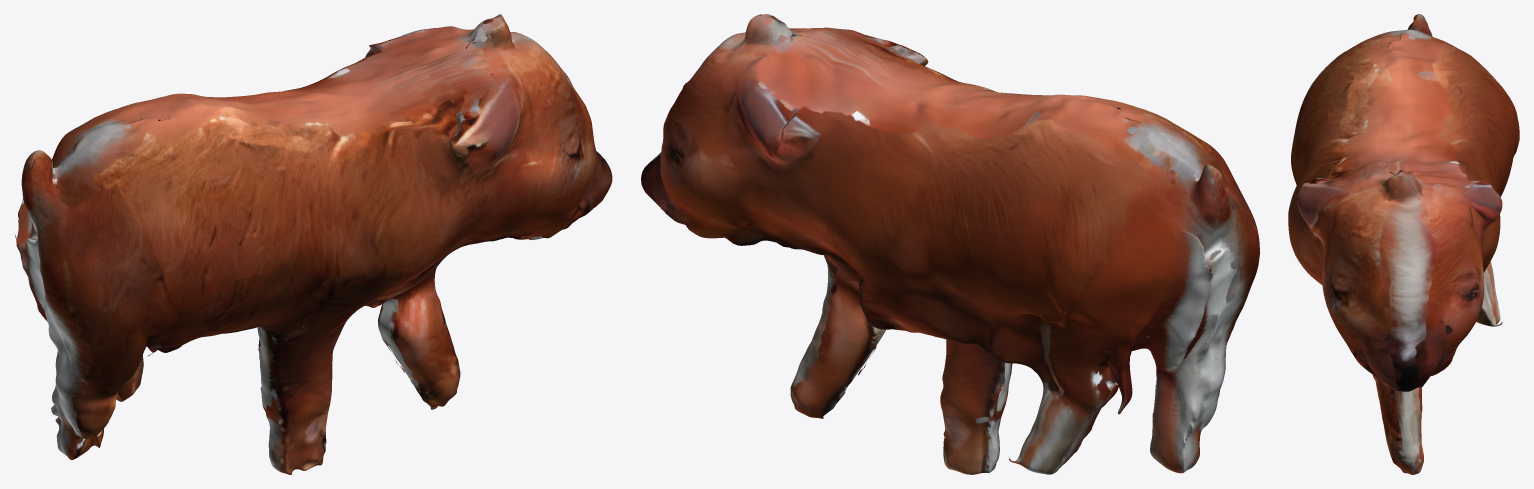
File: bebe.glb
3 renders of one model, left to right at view 1: azimuth 30°, elevation 25°; view 2: azimuth 150°, elevation 25°; view 3: azimuth 270°, elevation 25°, orthographic. The views are drawn at different scales.
Parts seen in each view (by area): view 1: mesh; view 2: mesh; view 3: mesh.
Boxes of the visible parts, x1=… form: mesh: x1=15, y1=14, x2=612, y2=474; mesh: x1=641, y1=14, x2=1259, y2=474; mesh: x1=1288, y1=14, x2=1519, y2=474.
Bounding box in the file's own units: 1.8 × 1.19 × 0.7325.
Materials: 1 (1 with a texture image).
